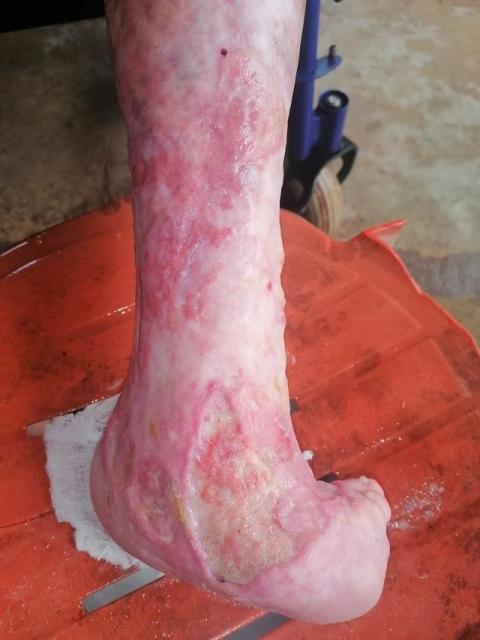wound: (106, 0, 286, 349), (125, 378, 337, 587), (104, 402, 135, 482)
